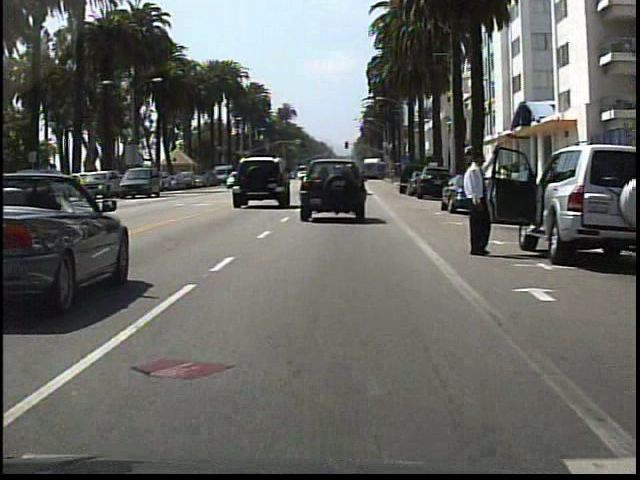person: (452, 142, 501, 262)
